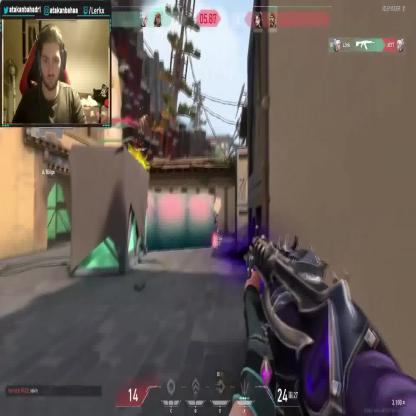enemy: (212, 207, 219, 240)
enemy_head: (215, 209, 219, 215)
